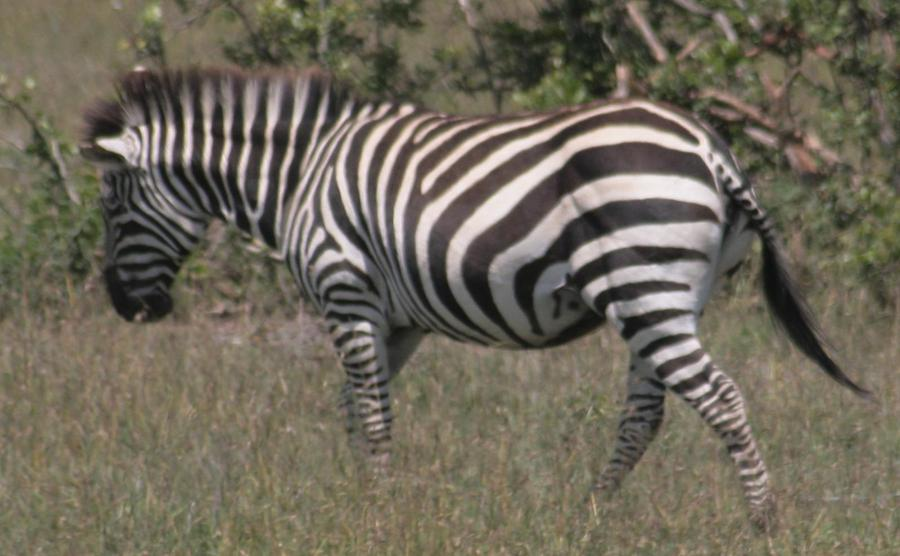zebra_plains: (260, 70, 737, 385)
